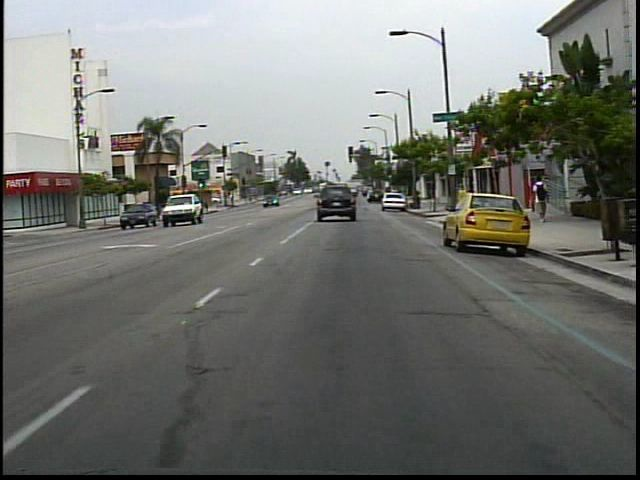person: (528, 171, 554, 226)
